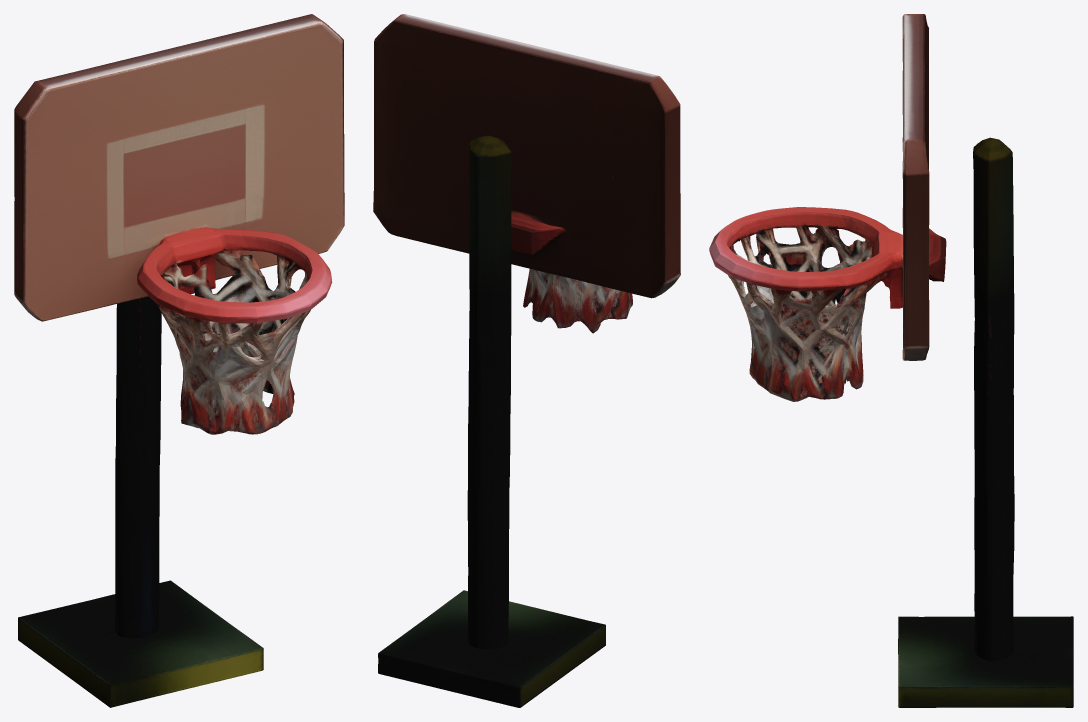
File: basketball_hoop.glb
3 renders of one model, left to right at view 1: azimuth 30°, elevation 25°; view 2: azimuth 150°, elevation 25°; view 3: azimuth 270°, elevation 25°, orthographic. The views are drawn at different scales.
Visible parts, largest first — view 1: world; view 2: world; view 3: world.
Boxes of the visible parts, left/top/right/bottom form: world: left=14, top=14, right=344, bottom=707; world: left=373, top=14, right=680, bottom=707; world: left=709, top=14, right=1073, bottom=707.
Bounding box in the file's own units: 0.5332 × 1 × 0.5551.
1 material, 1 textured.
